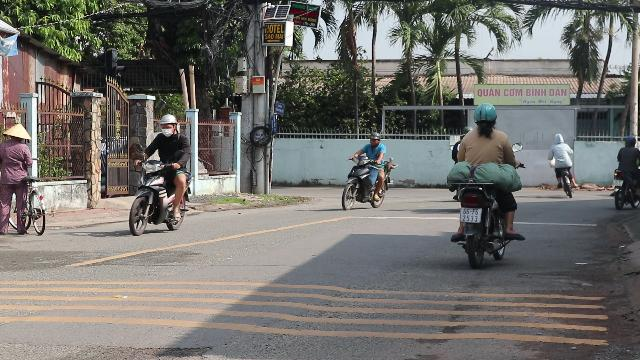helmet: (472, 103, 498, 130), (159, 114, 177, 136)
licenseplate: (460, 208, 480, 222)
motorcyclist: (444, 102, 524, 266), (126, 112, 192, 236)
